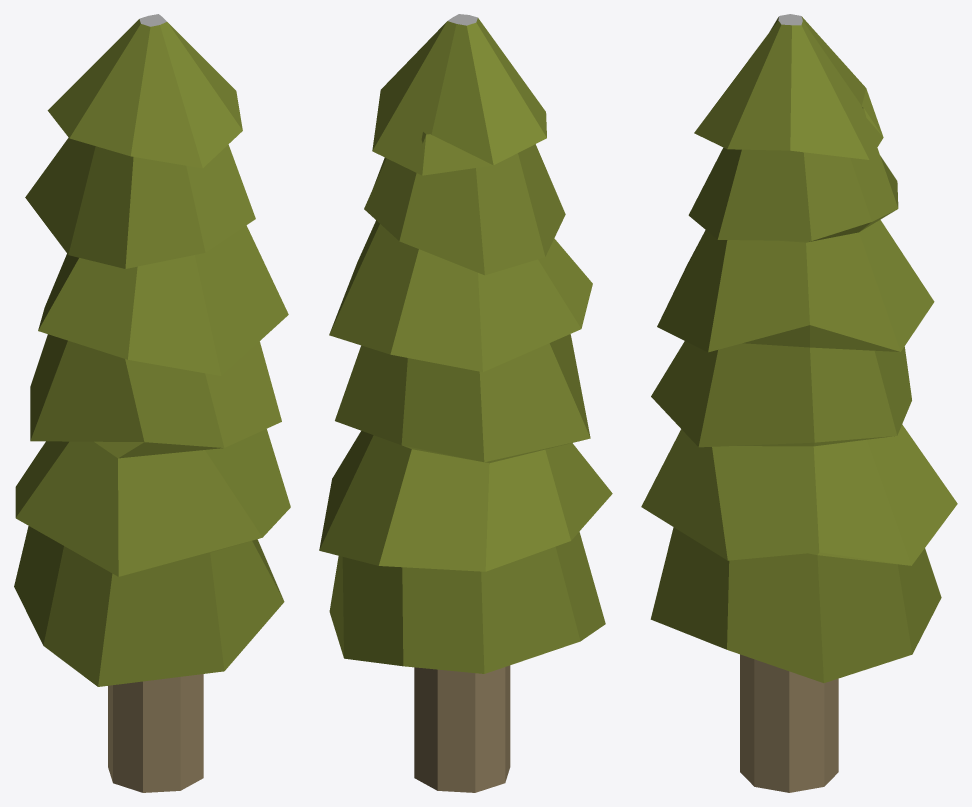
File: Pinetree stylized 2.fbx
The picture shows the model from 3 angles, left to right: view 1: azimuth 30°, elevation 25°; view 2: azimuth 150°, elevation 25°; view 3: azimuth 270°, elevation 25°; orthographic projection.
Visible parts, largest first — view 1: pinetree_cylinder; view 2: pinetree_cylinder; view 3: pinetree_cylinder.
Part boxes in pixels (x1,y1,x2,y2): pinetree_cylinder: (14,14,290,792); pinetree_cylinder: (319,14,612,792); pinetree_cylinder: (641,14,957,792).
Bounding box in the file's own units: 1.66 × 4.94 × 1.89.
